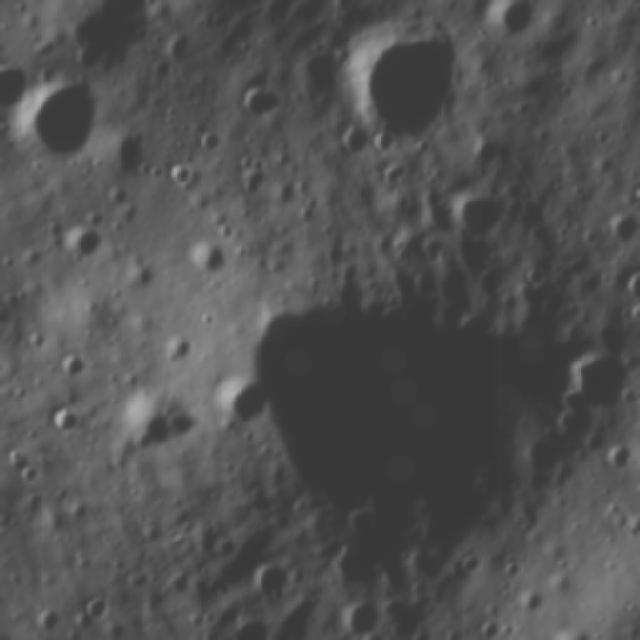crater: (228, 282, 612, 589), (310, 10, 476, 156), (13, 64, 116, 170), (120, 394, 206, 472), (55, 218, 111, 279), (43, 400, 88, 438)
